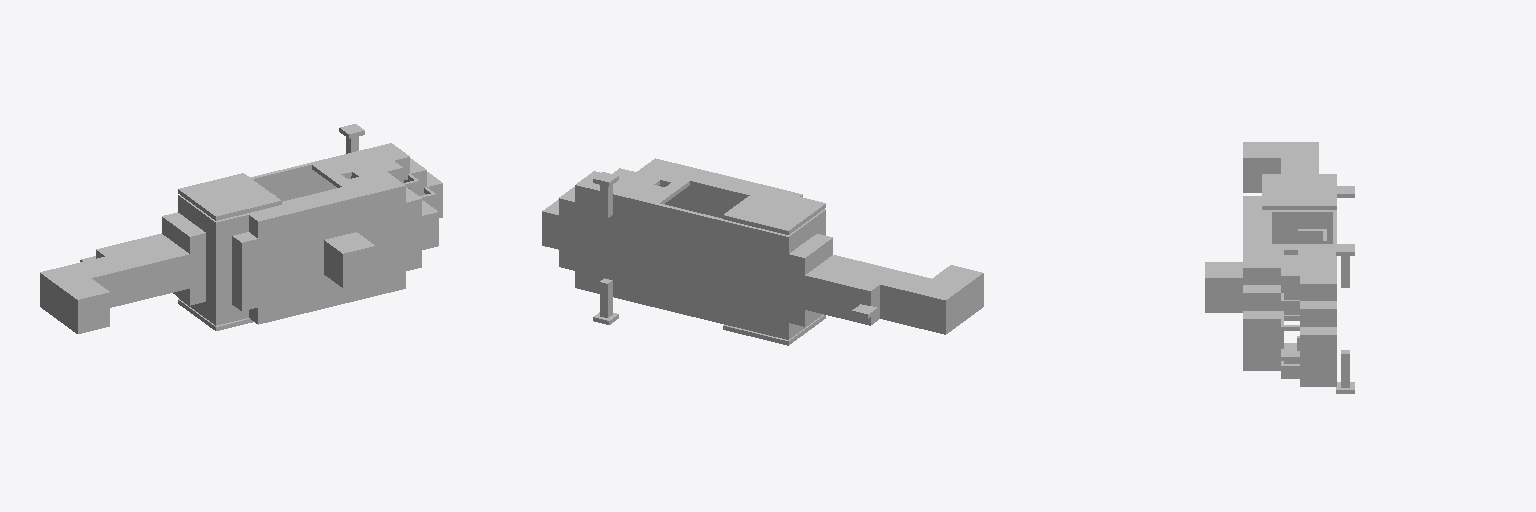
Rendered from aztec_helicopter.obj.
3 views of the same model, side by side, from view 1: azimuth 30°, elevation 25°; view 2: azimuth 150°, elevation 25°; view 3: azimuth 270°, elevation 25° (orthographic).
Parts seen in each view (by area): view 1: aztec_helicopter_0; view 2: aztec_helicopter_0; view 3: aztec_helicopter_0.
Boxes of the visible parts, box(x1,y1,x2,y2) form: aztec_helicopter_0: box(40, 124, 442, 333); aztec_helicopter_0: box(542, 158, 983, 345); aztec_helicopter_0: box(1205, 142, 1354, 393).
Size of the model in its own units: 18.03 by 6.23 by 5.95.